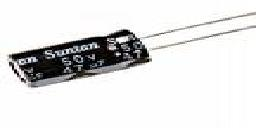Electrolytic-capacitor: (4, 28, 154, 91)
